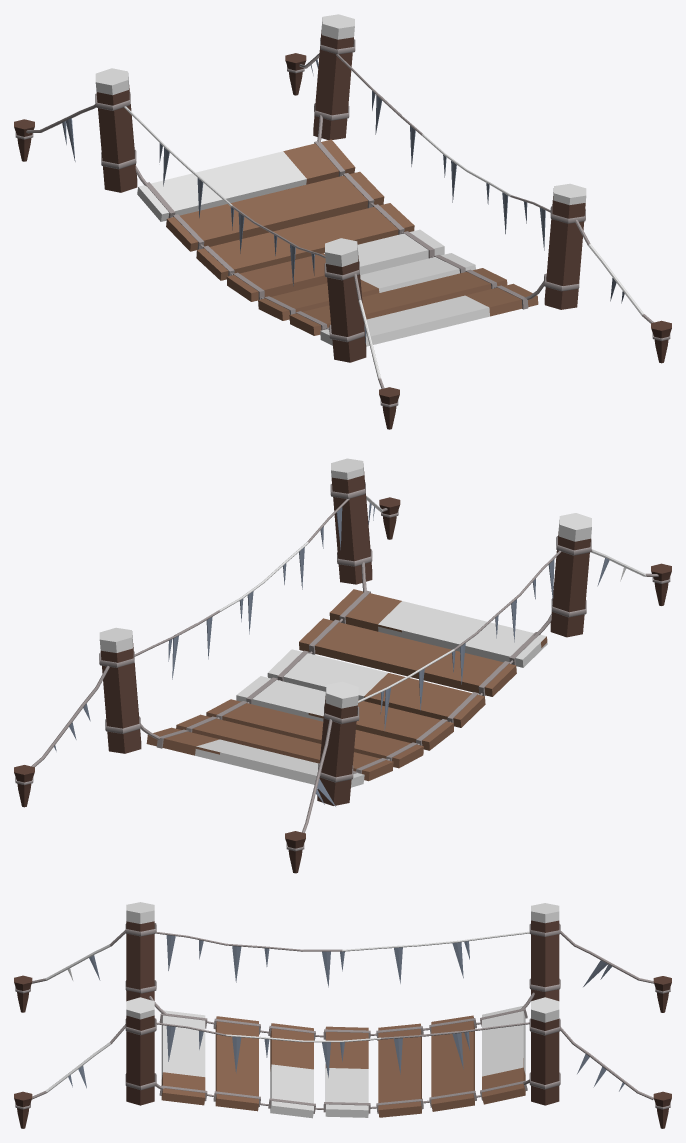
File: snow_bridge.fbx
3 views of the same model, one above another, from view 1: azimuth 30°, elevation 25°; view 2: azimuth 150°, elevation 25°; view 3: azimuth 270°, elevation 25° (orthographic). The views are drawn at different scales.
Parts seen in each view (by area): view 1: pCylinder33; view 2: pCylinder33; view 3: pCylinder33.
Boxes of the visible parts, box(x1,y1,x2,y2) form: pCylinder33: box(14, 14, 671, 429); pCylinder33: box(14, 458, 671, 873); pCylinder33: box(14, 902, 671, 1128).
Bounding box in the file's own units: 5.03 × 2.31 × 11.2.
